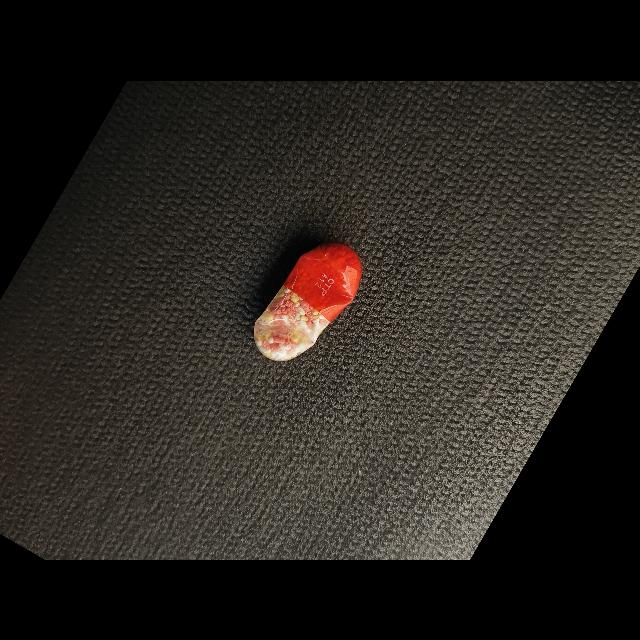Defective Capsule: (254, 242, 362, 361)
